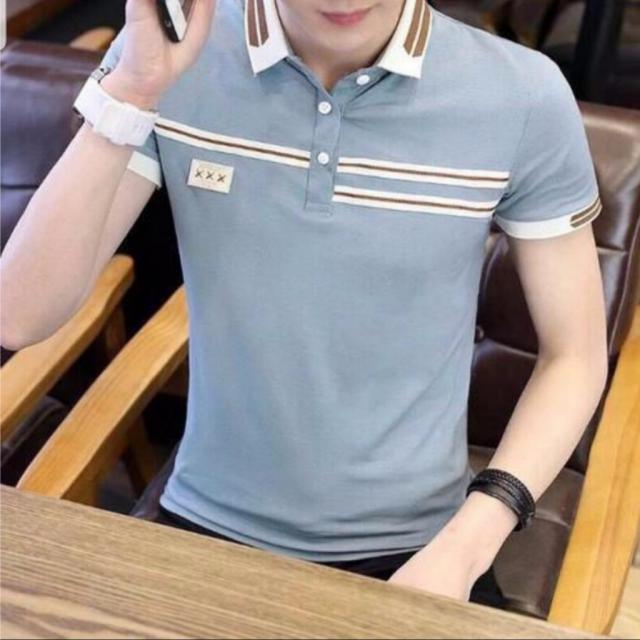Siting: (1, 0, 613, 609)
